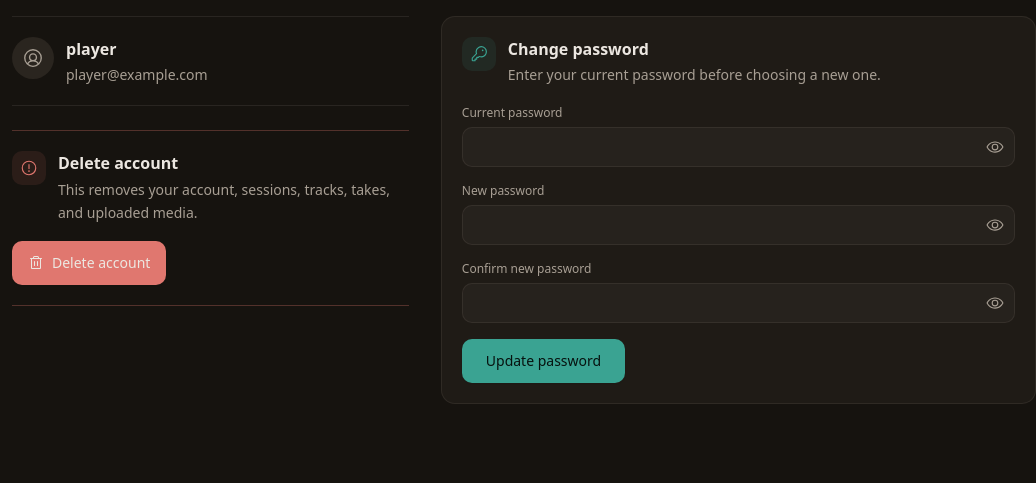
Test: AccountSettingsPanel › posts password changes through the Django proxy
Type "old-password-123" into the password field labelled "Current password". click: (738, 147)
box: [462,127,1015,167]
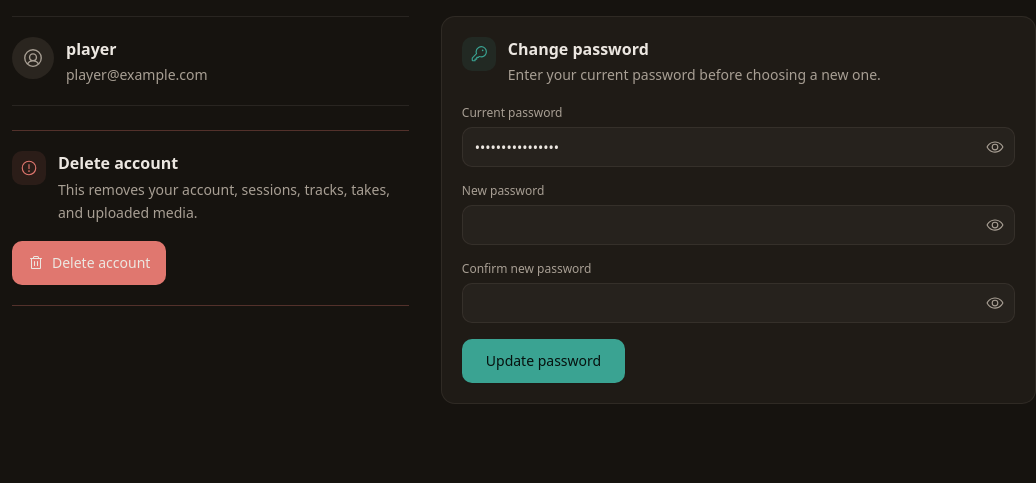
Type "new-password-123" into the password field labelled "New password". click: (738, 225)
box: [462,205,1015,245]
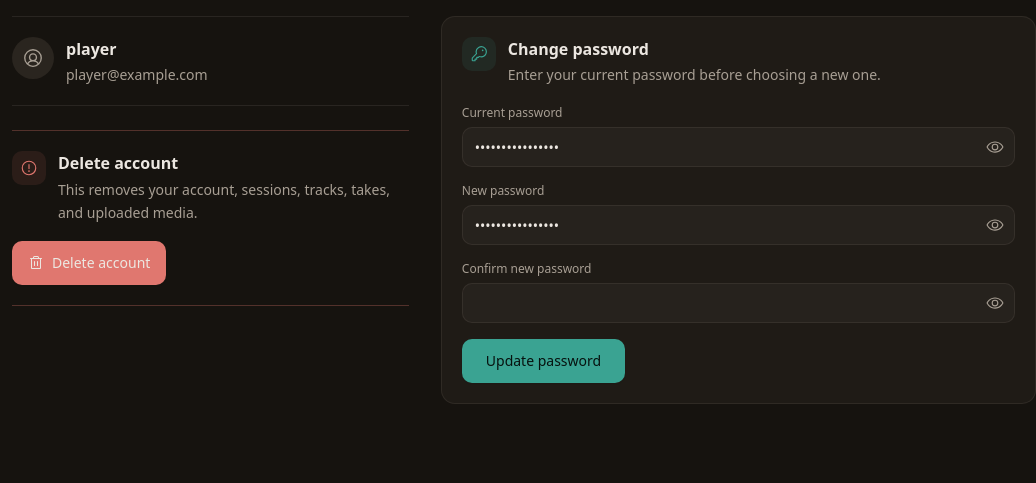
Type "new-password-123" into the password field labelled "Confirm new password". click: (738, 303)
box: [462,283,1015,323]
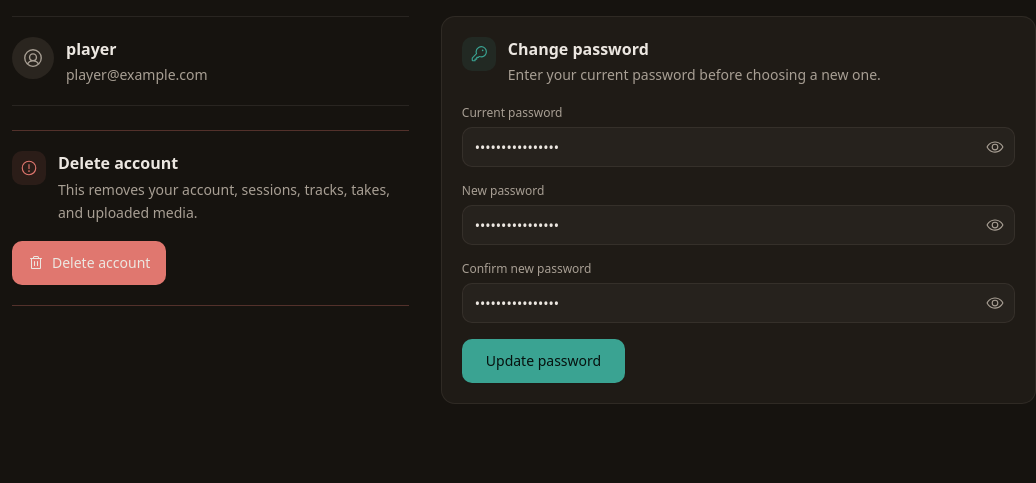
Click the button "Update password". click: (544, 361)
box: [462,339,625,383]
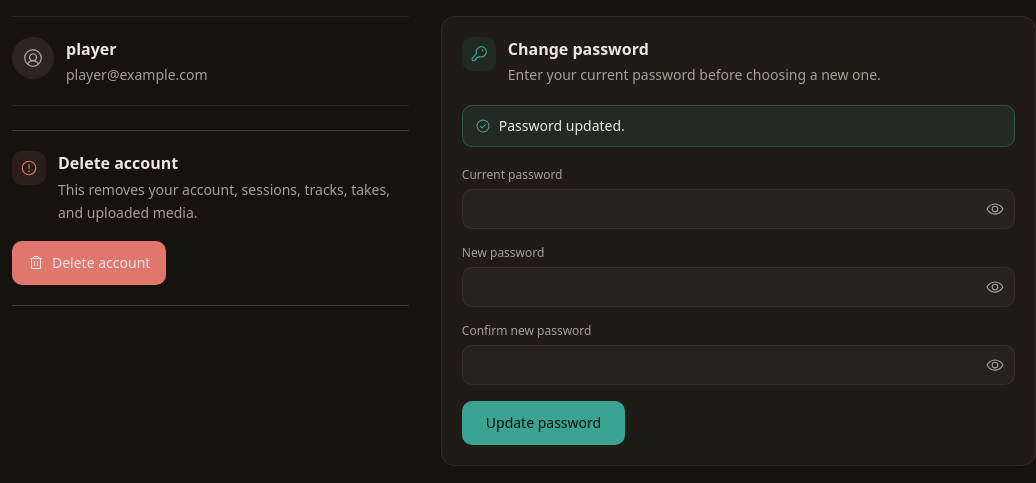
Expected: the text "Password updated." is shown, [462,105,1015,147]
